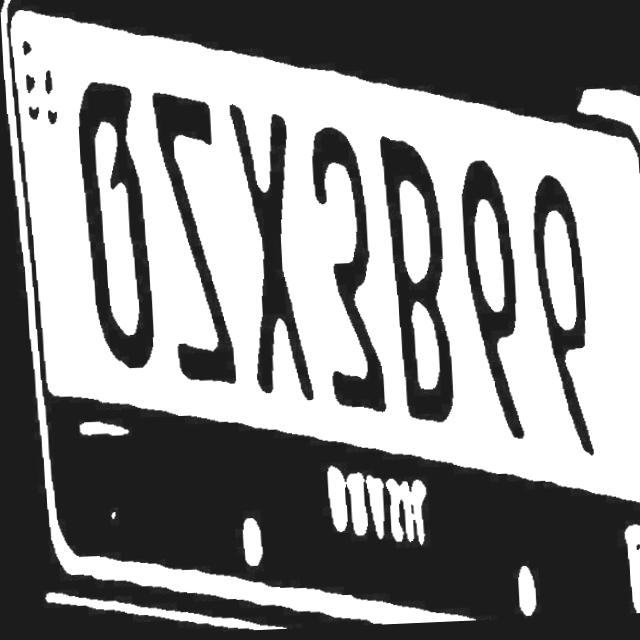3: (306, 121, 385, 423)
6: (452, 159, 523, 451), (525, 174, 595, 466)
b: (376, 135, 456, 430)
q: (71, 77, 155, 380)
x: (227, 102, 312, 409)
z: (148, 88, 237, 394)
